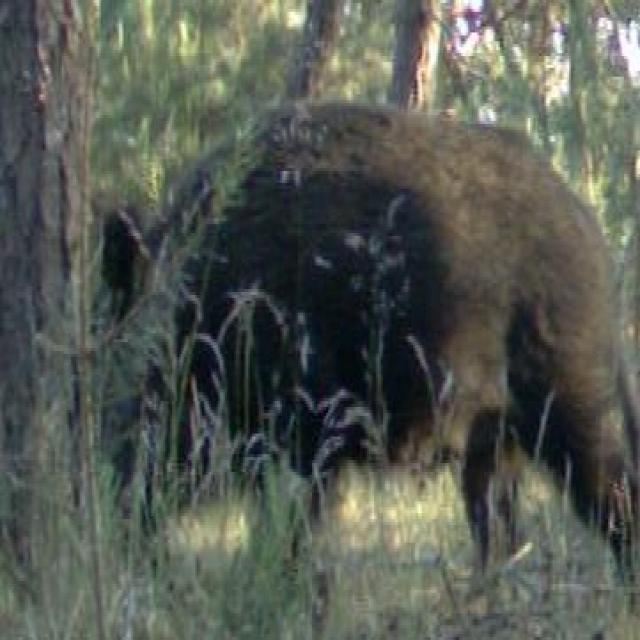pig: (99, 75, 640, 581)
